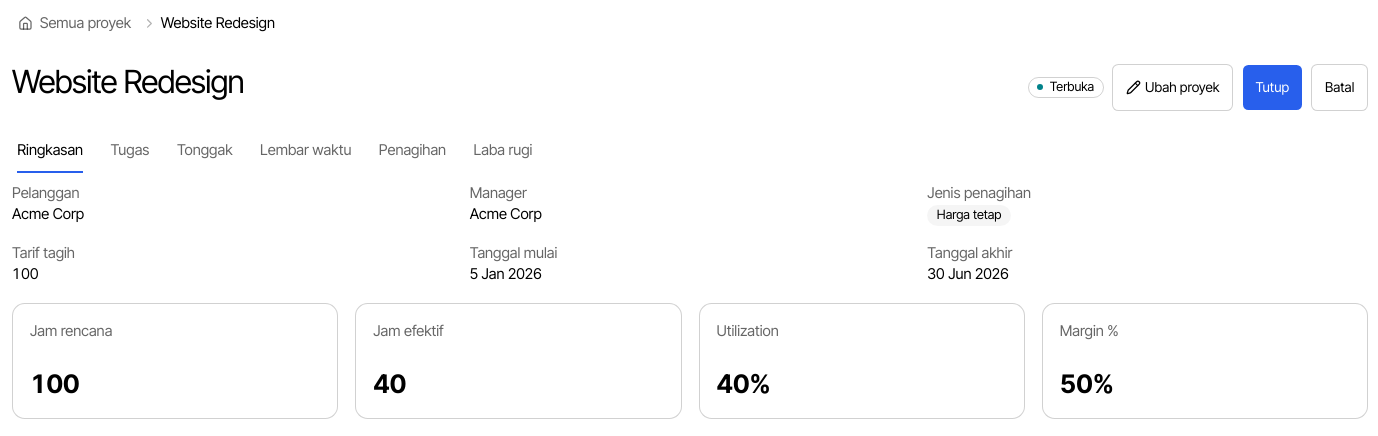
ProjectDetail remainder › shows the non-time-material message on the billing tab
The image size is (1378, 436).
Expected: the heading "Website Redesign" is shown, [12,64,244,100]
Click the tab "Penagihan" at (412, 151), box [378,128,447,174]
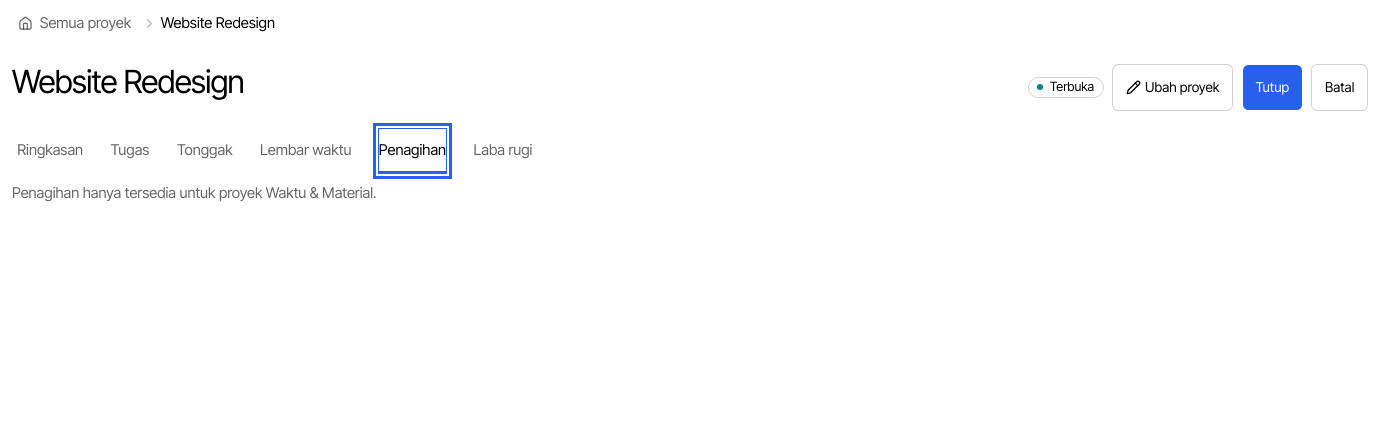
Now the text "Penagihan hanya tersedia untuk proyek Waktu & Material." is shown, box [12,184,377,202]
